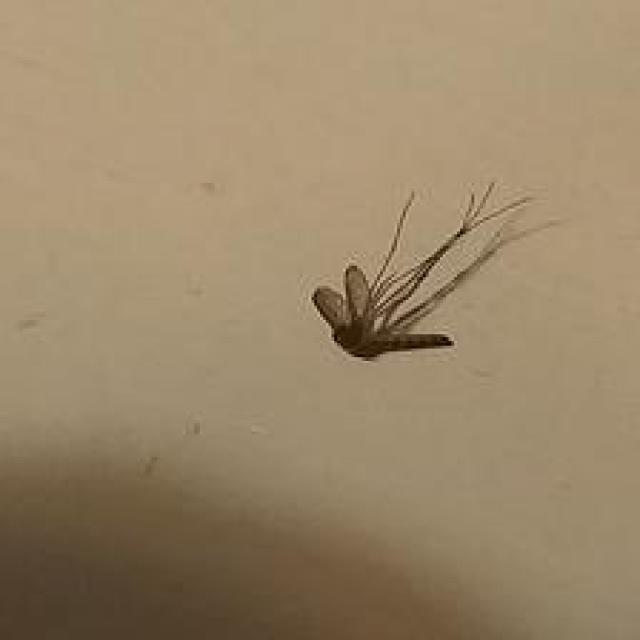Culex: (310, 178, 556, 362)
